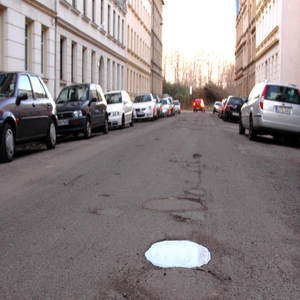pothole: (142, 235, 214, 272)
